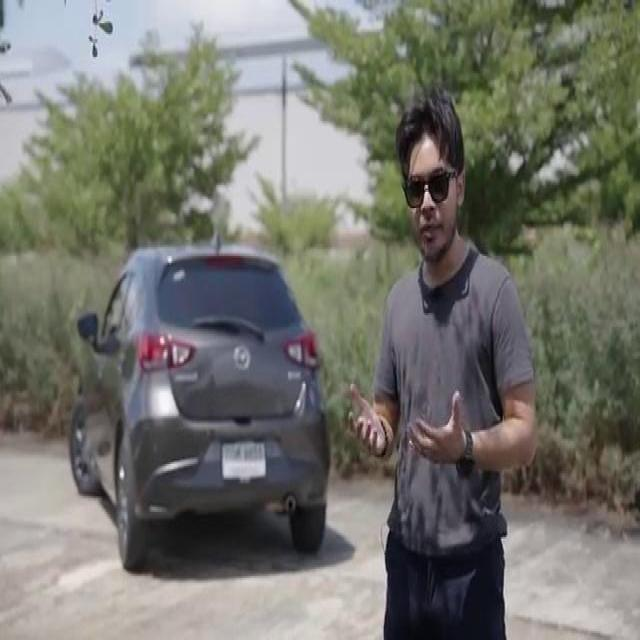Hatchback: (68, 240, 329, 569)
